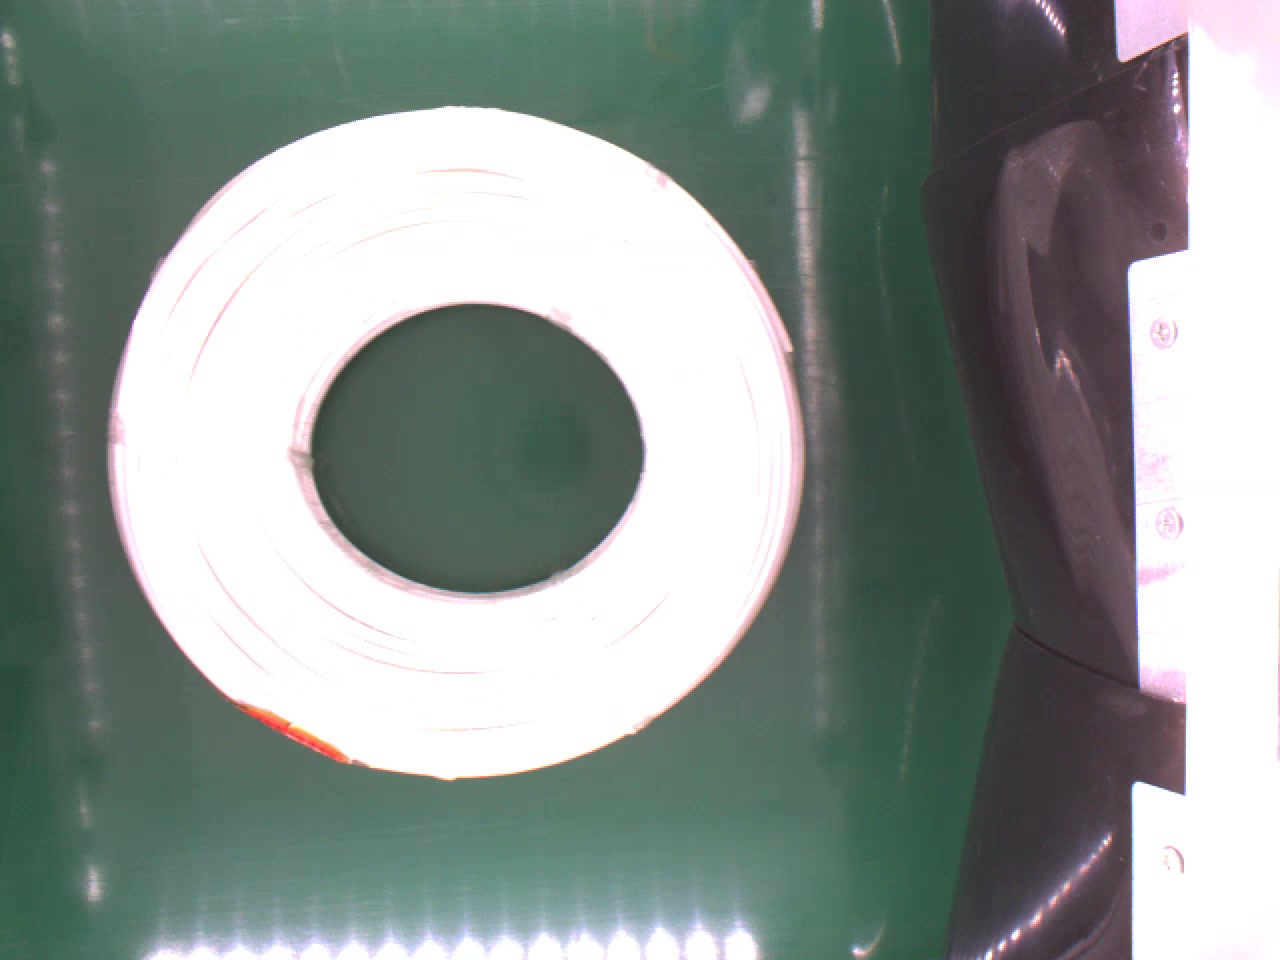white: (110, 97, 817, 775)
